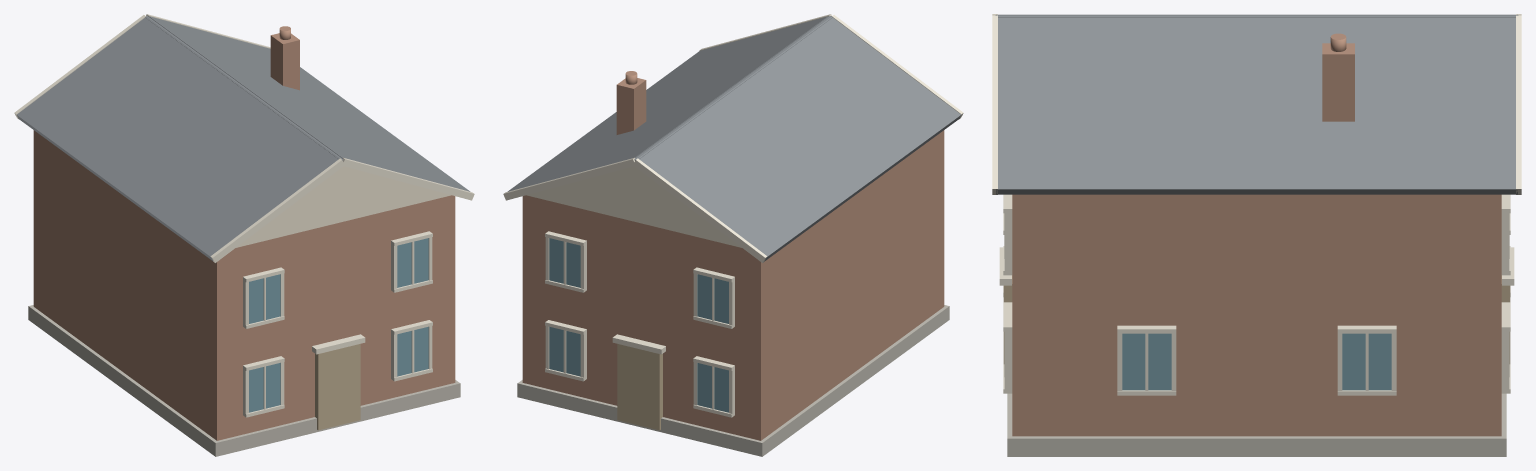
Rendered from tyne-brick-house_lod0.glb.
The picture shows the model from 3 angles, left to right: view 1: azimuth 30°, elevation 25°; view 2: azimuth 150°, elevation 25°; view 3: azimuth 270°, elevation 25°; orthographic projection. The views are drawn at different scales.
Parts seen in each view (by area): view 1: RF_Body, RF_Roof.001, RF_Roof, RF_Foundation, RF_Gable, RF_Door.001, RF_Vergeband.001, RF_Chimney, RF_Window.002, RF_Window.004, RF_Window.001, RF_Window.003 (+4 smaller); view 2: RF_Body, RF_Roof.001, RF_Roof, RF_Foundation, RF_Gable.001, RF_Door, RF_Chimney, RF_Vergeband.002, RF_Window.006, RF_Window.008, RF_Window.005, RF_Window.007 (+4 smaller); view 3: RF_Body, RF_Roof, RF_Foundation, RF_Window.009, RF_Window, RF_Chimney, RF_Ridge, RF_Vergeband.003, RF_Vergeband, RF_Roof.001, RF_WindowFrame.016, RF_WindowFrame.008 (+2 smaller).
Boxes of the visible parts, <box> form: RF_Body: <box>33,130,455,440</box>; RF_Roof.001: <box>17,17,339,261</box>; RF_Roof: <box>148,16,470,191</box>; RF_Foundation: <box>28,305,460,456</box>; RF_Gable: <box>236,166,450,247</box>; RF_Door.001: <box>315,344,360,430</box>; RF_Vergeband.001: <box>210,158,344,262</box>; RF_Chimney: <box>270,33,299,90</box>; RF_Window.002: <box>249,274,280,323</box>; RF_Window.004: <box>397,238,428,287</box>; RF_Window.001: <box>249,363,280,412</box>; RF_Window.003: <box>397,326,428,376</box>; RF_Body: <box>522,130,944,440</box>; RF_Roof.001: <box>638,17,960,261</box>; RF_Roof: <box>507,16,829,191</box>; RF_Foundation: <box>517,305,949,456</box>; RF_Gable.001: <box>527,166,741,247</box>; RF_Door: <box>617,344,662,430</box>; RF_Chimney: <box>616,78,646,134</box>; RF_Vergeband.002: <box>633,158,767,262</box>; RF_Window.006: <box>697,274,728,323</box>; RF_Window.008: <box>549,238,580,287</box>; RF_Window.005: <box>697,363,728,412</box>; RF_Window.007: <box>549,326,580,376</box>; RF_Body: <box>1012,194,1501,436</box>; RF_Roof: <box>996,16,1517,194</box>; RF_Foundation: <box>1007,393,1506,456</box>; RF_Window.009: <box>1122,333,1171,390</box>; RF_Window: <box>1342,333,1391,390</box>; RF_Chimney: <box>1322,43,1354,121</box>; RF_Ridge: <box>995,15,1518,17</box>; RF_Vergeband.003: <box>992,15,997,194</box>; RF_Vergeband: <box>1516,15,1521,194</box>; RF_Roof.001: <box>996,14,1517,15</box>; RF_WindowFrame.016: <box>1501,207,1509,275</box>; RF_WindowFrame.008: <box>1004,207,1012,275</box>.
Size of the model in its own units: 9.91 by 10.47 by 12.98.
